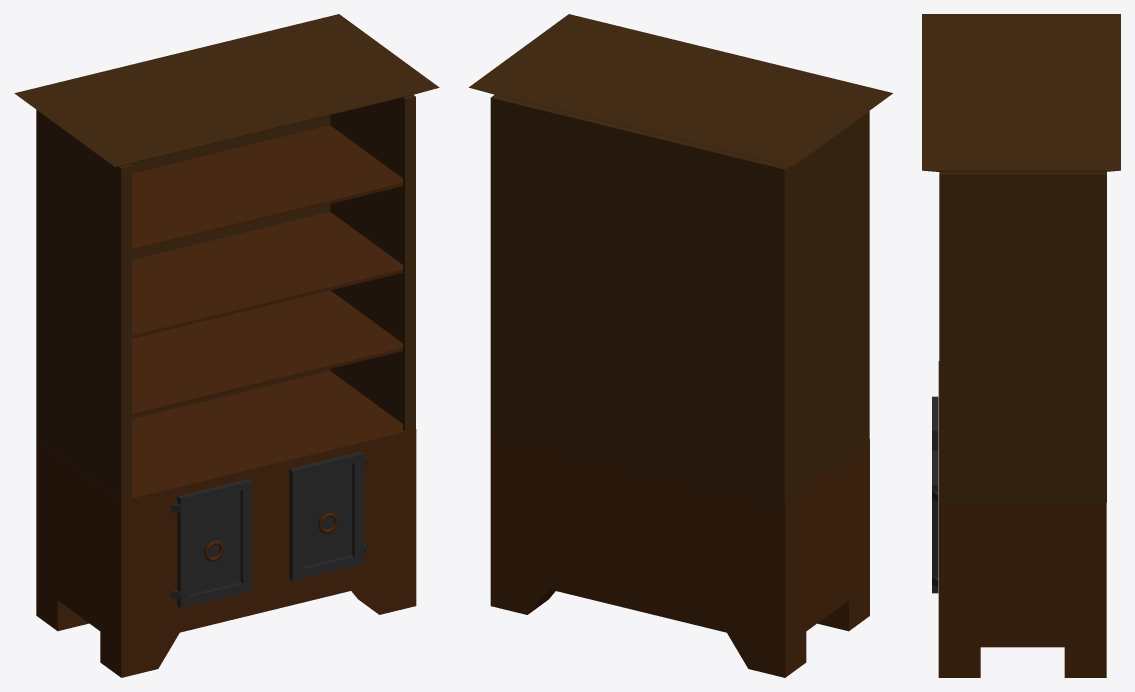
Rendered from CPI441_Fur_bookshelf_O5_V2.fbx.
3 renders of one model, left to right at view 1: azimuth 30°, elevation 25°; view 2: azimuth 150°, elevation 25°; view 3: azimuth 270°, elevation 25°, orthographic.
Visible parts, largest first — view 1: Cube; view 2: Cube; view 3: Cube.
Boxes of the visible parts, x1,y1,x2,y2 form: Cube: (14,14,439,677); Cube: (469,14,892,677); Cube: (922,14,1120,677).
Bounding box in the file's own units: 761 × 1165 × 408.
